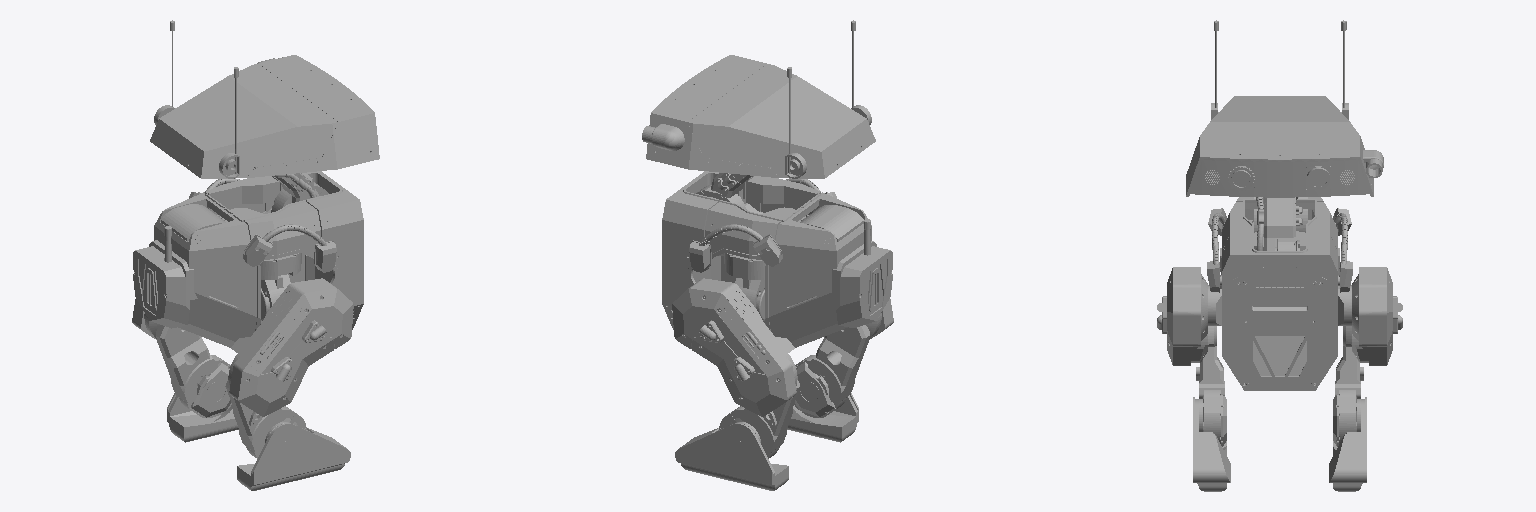
The robot description file, URDF, robot "bdx":
<?xml version="1.0" ?>
<robot name="bdx">
  <material name="silver">
    <color rgba="0.700 0.700 0.700 1.000"/>
  </material>
  <link name="trunk">
    <inertial>
      <origin xyz="0 0 0" rpy="0 0 0" />
      <mass value="1e-9" />
      <inertia ixx="0" ixy="0" ixz="0" iyy="0" iyz="0" izz="0" />
    </inertial>
  </link>
  <joint name="trunk_frame" type="fixed">
    <origin xyz="-0.035 0 0.26943" rpy="0 0 0" />
    <parent link="pelvis" />
    <child link="trunk" />
    <axis xyz="0 0 0"/>
  </joint>
  <joint name="left_hip_yaw" type="revolute">
    <origin rpy="0 0 0" xyz="-0.033111 0.046658 0.363959"/>
    <parent link="pelvis"/>
    <child link="left_hip_rotation"/>
    <axis xyz="-0.0 0.0 -1.0"/>
    <limit lower="-0.7853982" upper="0.7853982" effort="23.7" velocity="30"/>
  </joint>
  <joint name="left_hip_roll" type="revolute">
    <origin rpy="0 0 0" xyz="-0.0073 0.00275 -0.076"/>
    <parent link="left_hip_rotation"/>
    <child link="left_hip"/>
    <axis xyz="1.0 -0.0 -0.0"/>
    <limit lower="-0.7853982" upper="0.7853982" effort="23.7" velocity="30"/>
  </joint>
  <joint name="left_hip_pitch" type="revolute">
    <origin rpy="0 0 0" xyz="0.017466 0.069601 0.000785"/>
    <parent link="left_hip"/>
    <child link="left_thigh"/>
    <axis xyz="0.0 1.0 0.0"/>
    <limit lower="-0.7853982" upper="0.7853982" effort="23.7" velocity="30"/>
  </joint>
  <joint name="left_knee" type="revolute">
    <origin rpy="0 0 0" xyz="-0.079306 0.0 -0.077708"/>
    <parent link="left_thigh"/>
    <child link="left_shin"/>
    <axis xyz="-0.0 -1.0 0.0"/>
    <limit lower="-0.7853982" upper="0.7853982" effort="23.7" velocity="30"/>
  </joint>
  <joint name="left_ankle" type="revolute">
    <origin rpy="0 0 0" xyz="0.045 -0.0152 -0.13"/>
    <parent link="left_shin"/>
    <child link="left_foot_link"/>
    <axis xyz="0.0 1.0 -0.0"/>
    <limit lower="-0.7853982" upper="0.7853982" effort="23.7" velocity="30"/>
  </joint>
  <joint name="right_hip_yaw" type="revolute">
    <origin rpy="0 0 0" xyz="-0.033111 -0.046658 0.363959"/>
    <parent link="pelvis"/>
    <child link="right_hip_rotation"/>
    <axis xyz="-0.0 -0.0 -1.0"/>
    <limit lower="-0.7853982" upper="0.7853982" effort="23.7" velocity="30"/>
  </joint>
  <joint name="right_hip_roll" type="revolute">
    <origin rpy="0 0 0" xyz="-0.0073 -0.00275 -0.076"/>
    <parent link="right_hip_rotation"/>
    <child link="right_hip"/>
    <axis xyz="1.0 -0.0 -0.0"/>
    <limit lower="-0.7853982" upper="0.7853982" effort="23.7" velocity="30"/>
  </joint>
  <joint name="right_hip_pitch" type="revolute">
    <origin rpy="0 0 0" xyz="0.017466 -0.069601 0.000785"/>
    <parent link="right_hip"/>
    <child link="right_thigh"/>
    <axis xyz="-0.0 -1.0 0.0"/>
    <limit lower="-0.7853982" upper="0.7853982" effort="23.7" velocity="30"/>
  </joint>
  <joint name="right_knee" type="revolute">
    <origin rpy="0 0 0" xyz="-0.079306 0.0 -0.077708"/>
    <parent link="right_thigh"/>
    <child link="right_shin"/>
    <axis xyz="0.0 1.0 -0.0"/>
    <limit lower="-0.7853982" upper="0.7853982" effort="23.7" velocity="30"/>
  </joint>
  <joint name="right_ankle" type="revolute">
    <origin rpy="0 0 0" xyz="0.045 0.0152 -0.13"/>
    <parent link="right_shin"/>
    <child link="right_foot_link"/>
    <axis xyz="-0.0 -1.0 0.0"/>
    <limit lower="-0.7853982" upper="0.7853982" effort="23.7" velocity="30"/>
  </joint>
  <joint name="neck_pitch" type="revolute">
    <origin rpy="0 0 0" xyz="0.056339 0.0119 0.395171"/>
    <parent link="pelvis"/>
    <child link="neck"/>
    <axis xyz="-0.0 -1.0 0.0"/>
    <limit lower="-0.7853982" upper="0.7853982" effort="23.7" velocity="30"/>
  </joint>
  <joint name="head_pitch" type="revolute">
    <origin rpy="0 0 0" xyz="-0.065022 -0.01175 0.11088"/>
    <parent link="neck"/>
    <child link="head_body_pitch"/>
    <axis xyz="-0.0 -1.0 0.0"/>
    <limit lower="-0.7853982" upper="0.7853982" effort="7.3" velocity="5.55"/>
  </joint>
  <joint name="head_yaw" type="revolute">
    <origin rpy="0 0 0" xyz="0.000299 0.0007 0.02897"/>
    <parent link="head_body_pitch"/>
    <child link="head_body_yaw"/>
    <axis xyz="-0.0 -0.0 1.0"/>
    <limit lower="-0.7853982" upper="0.7853982" effort="7.3" velocity="5.55"/>
  </joint>
  <joint name="head_roll" type="revolute">
    <origin rpy="0 0 0" xyz="0.039892 0.0 0.02715"/>
    <parent link="head_body_yaw"/>
    <child link="head_body_roll"/>
    <axis xyz="1.0 -0.0 0.0"/>
    <limit lower="-0.7853982" upper="0.7853982" effort="7.3" velocity="5.55"/>
  </joint>
  <joint name="left_antenna" type="revolute">
    <origin rpy="0 0 0" xyz="-0.16665 0.0683 0.001231"/>
    <parent link="head_body_roll"/>
    <child link="ear_left"/>
    <axis xyz="-0.0 -1.0 -0.0"/>
    <limit lower="-0.7853982" upper="0.7853982" effort="0.2943" velocity="13.62"/>
  </joint>
  <joint name="right_antenna" type="revolute">
    <origin rpy="0 0 0" xyz="-0.16665 -0.0697 0.001231"/>
    <parent link="head_body_roll"/>
    <child link="ear_right"/>
    <axis xyz="-0.0 -1.0 -0.0"/>
    <limit lower="-0.7853982" upper="0.7853982" effort="0.2943" velocity="13.62"/>
  </joint>
  <link name="pelvis">
    <inertial>
      <origin rpy="0 0 0" xyz="-0.053755951684186565 0.0011833805784402802 0.3419474505132109"/>
      <mass value="5.713"/>
      <inertia ixx="0.201691" ixy="-0.002118" ixz="0.016433" iyy="0.431684" iyz="-0.001502" izz="0.371809"/>
    </inertial>
    <visual>
      <origin rpy="0 0 0" xyz="0 0 0"/>
      <geometry>
        <mesh filename="meshes/pelvis.stl" scale="0.001 0.001 0.001"/>
      </geometry>
      <material name="silver"/>
    </visual>
    <collision>
      <origin rpy="0 0 0" xyz="0 0 0"/>
      <geometry>
        <mesh filename="meshes/pelvis.stl" scale="0.001 0.001 0.001"/>
      </geometry>
    </collision>
  </link>
  <link name="left_foot">
    <inertial>
      <origin xyz="0 0 0" rpy="0 0 0" />
      <mass value="1e-9" />
      <inertia ixx="0" ixy="0" ixz="0" iyy="0" iyz="0" izz="0" />
    </inertial>
  </link>
  <joint name="left_foot_frame" type="fixed">
      <origin xyz="0.025 0.0 -0.0785" rpy="0 0 0" />
      <parent link="left_foot_link" />
      <child link="left_foot" />
      <axis xyz="0 0 0"/>
  </joint>
  <link name="left_foot_link">
    <inertial>
      <origin rpy="0 0 0" xyz="0.03176454302608206 0.007933373772940469 -0.042151517495486915"/>
      <mass value="0.678"/>
      <inertia ixx="0.003343" ixy="0.000338" ixz="0.000572" iyy="0.010216" iyz="-0.000559" izz="0.008414"/>
    </inertial>
    <visual>
      <origin rpy="0 0 0" xyz="0.057251 -0.103809 -0.081036"/>
      <geometry>
        <mesh filename="meshes/left_foot.stl" scale="0.001 0.001 0.001"/>
      </geometry>
      <material name="silver"/>
    </visual>
    <collision>
      <origin rpy="0 0 0" xyz="0.057251 -0.103809 -0.081036"/>
      <geometry>
        <mesh filename="meshes/left_foot.stl" scale="0.001 0.001 0.001"/>
      </geometry>
    </collision>
  </link>
  <link name="left_shin">
    <inertial>
      <origin rpy="0 0 0" xyz="0.022294583259108075 -0.014936697575107835 -0.09005879619606566"/>
      <mass value="0.633"/>
      <inertia ixx="0.008877" ixy="0.000288" ixz="0.002995" iyy="0.011732" iyz="-0.000503" izz="0.003534"/>
    </inertial>
    <visual>
      <origin rpy="0 0 0" xyz="0.102251 -0.119009 -0.211036"/>
      <geometry>
        <mesh filename="meshes/left_shin.stl" scale="0.001 0.001 0.001"/>
      </geometry>
      <material name="silver"/>
    </visual>
    <collision>
      <origin rpy="0 0 0" xyz="0.102251 -0.119009 -0.211036"/>
      <geometry>
        <mesh filename="meshes/left_shin.stl" scale="0.001 0.001 0.001"/>
      </geometry>
    </collision>
  </link>
  <link name="left_thigh">
    <inertial>
      <origin rpy="0 0 0" xyz="-0.03410869713640875 0.02677272953598611 -0.034446694656980914"/>
      <mass value="0.633"/>
      <inertia ixx="0.024423" ixy="-0.000254" ixz="-0.014456" iyy="0.047342" iyz="-2.5e-05" izz="0.029001"/>
    </inertial>
    <visual>
      <origin rpy="0 0 0" xyz="0.022945 -0.119009 -0.288744"/>
      <geometry>
        <mesh filename="meshes/left_thigh.stl" scale="0.001 0.001 0.001"/>
      </geometry>
      <material name="silver"/>
    </visual>
    <collision>
      <origin rpy="0 0 0" xyz="0.022945 -0.119009 -0.288744"/>
      <geometry>
        <mesh filename="meshes/left_thigh.stl" scale="0.001 0.001 0.001"/>
      </geometry>
    </collision>
  </link>
  <link name="left_hip">
    <inertial>
      <origin rpy="0 0 0" xyz="0.01891117648514914 0.023471260644046747 0.00036212347671088496"/>
      <mass value="0.633"/>
      <inertia ixx="0.001496" ixy="-4.5e-05" ixz="-4e-06" iyy="0.000508" iyz="-4e-06" izz="0.001368"/>
    </inertial>
    <visual>
      <origin rpy="0 0 0" xyz="0.040411 -0.049408 -0.287959"/>
      <geometry>
        <mesh filename="meshes/left_hip.stl" scale="0.001 0.001 0.001"/>
      </geometry>
      <material name="silver"/>
    </visual>
    <collision>
      <origin rpy="0 0 0" xyz="0.040411 -0.049408 -0.287959"/>
      <geometry>
        <mesh filename="meshes/left_hip.stl" scale="0.001 0.001 0.001"/>
      </geometry>
    </collision>
  </link>
  <link name="left_hip_rotation">
    <inertial>
      <origin rpy="0 0 0" xyz="-0.0050839710984315195 0.0030924159298773846 -0.0631042772217113"/>
      <mass value="0.633"/>
      <inertia ixx="0.005331" ixy="8e-06" ixz="-0.000134" iyy="0.004179" iyz="9.4e-05" izz="0.001979"/>
    </inertial>
    <visual>
      <origin rpy="0 0 0" xyz="0.033111 -0.046658 -0.363959"/>
      <geometry>
        <mesh filename="meshes/left_hip_rotation.stl" scale="0.001 0.001 0.001"/>
      </geometry>
      <material name="silver"/>
    </visual>
    <collision>
      <origin rpy="0 0 0" xyz="0.033111 -0.046658 -0.363959"/>
      <geometry>
        <mesh filename="meshes/left_hip_rotation.stl" scale="0.001 0.001 0.001"/>
      </geometry>
    </collision>
  </link>
  <link name="right_foot">
    <inertial>
      <origin xyz="0 0 0" rpy="0 0 0" />
      <mass value="1e-9" />
      <inertia ixx="0" ixy="0" ixz="0" iyy="0" iyz="0" izz="0" />
    </inertial>
  </link>
  <joint name="right_foot_frame" type="fixed">
      <origin xyz="0.025 0.0 -0.0785" rpy="0 0 0" />
      <parent link="right_foot_link" />
      <child link="right_foot" />
      <axis xyz="0 0 0"/>
  </joint>
  <link name="right_foot_link">
    <inertial>
      <origin rpy="0 0 0" xyz="0.03176454302608035 -0.00793337377294008 -0.042151517495486845"/>
      <mass value="0.678"/>
      <inertia ixx="0.003343" ixy="-0.000338" ixz="0.000572" iyy="0.010216" iyz="0.000559" izz="0.008414"/>
    </inertial>
    <visual>
      <origin rpy="0 0 0" xyz="0.057251 0.103809 -0.081036"/>
      <geometry>
        <mesh filename="meshes/right_foot.stl" scale="0.001 0.001 0.001"/>
      </geometry>
      <material name="silver"/>
    </visual>
    <collision>
      <origin rpy="0 0 0" xyz="0.057251 0.103809 -0.081036"/>
      <geometry>
        <mesh filename="meshes/right_foot.stl" scale="0.001 0.001 0.001"/>
      </geometry>
    </collision>
  </link>
  <link name="right_shin">
    <inertial>
      <origin rpy="0 0 0" xyz="0.022294581455755427 0.014936696596238155 -0.09005879470076929"/>
      <mass value="0.633"/>
      <inertia ixx="0.008877" ixy="-0.000288" ixz="0.002995" iyy="0.011732" iyz="0.000503" izz="0.003534"/>
    </inertial>
    <visual>
      <origin rpy="0 0 0" xyz="0.102251 0.119009 -0.211036"/>
      <geometry>
        <mesh filename="meshes/right_shin.stl" scale="0.001 0.001 0.001"/>
      </geometry>
      <material name="silver"/>
    </visual>
    <collision>
      <origin rpy="0 0 0" xyz="0.102251 0.119009 -0.211036"/>
      <geometry>
        <mesh filename="meshes/right_shin.stl" scale="0.001 0.001 0.001"/>
      </geometry>
    </collision>
  </link>
  <link name="right_thigh">
    <inertial>
      <origin rpy="0 0 0" xyz="-0.03410869899821546 -0.026772733326120124 -0.03444669565952929"/>
      <mass value="0.633"/>
      <inertia ixx="0.024423" ixy="0.000254" ixz="-0.014456" iyy="0.047342" iyz="2.5e-05" izz="0.029001"/>
    </inertial>
    <visual>
      <origin rpy="0 0 0" xyz="0.022945 0.119009 -0.288744"/>
      <geometry>
        <mesh filename="meshes/right_thigh.stl" scale="0.001 0.001 0.001"/>
      </geometry>
      <material name="silver"/>
    </visual>
    <collision>
      <origin rpy="0 0 0" xyz="0.022945 0.119009 -0.288744"/>
      <geometry>
        <mesh filename="meshes/right_thigh.stl" scale="0.001 0.001 0.001"/>
      </geometry>
    </collision>
  </link>
  <link name="right_hip">
    <inertial>
      <origin rpy="0 0 0" xyz="0.01891117648514806 -0.023471260644046442 0.00036212347671088496"/>
      <mass value="0.633"/>
      <inertia ixx="0.001496" ixy="4.5e-05" ixz="-4e-06" iyy="0.000508" iyz="4e-06" izz="0.001368"/>
    </inertial>
    <visual>
      <origin rpy="0 0 0" xyz="0.040411 0.049408 -0.287959"/>
      <geometry>
        <mesh filename="meshes/right_hip.stl" scale="0.001 0.001 0.001"/>
      </geometry>
      <material name="silver"/>
    </visual>
    <collision>
      <origin rpy="0 0 0" xyz="0.040411 0.049408 -0.287959"/>
      <geometry>
        <mesh filename="meshes/right_hip.stl" scale="0.001 0.001 0.001"/>
      </geometry>
    </collision>
  </link>
  <link name="right_hip_rotation">
    <inertial>
      <origin rpy="0 0 0" xyz="-0.005083970545589955 -0.0030924159660494083 -0.0631042786786194"/>
      <mass value="0.633"/>
      <inertia ixx="0.005331" ixy="-8e-06" ixz="-0.000134" iyy="0.004179" iyz="-9.4e-05" izz="0.001979"/>
    </inertial>
    <visual>
      <origin rpy="0 0 0" xyz="0.033111 0.046658 -0.363959"/>
      <geometry>
        <mesh filename="meshes/right_hip_rotation.stl" scale="0.001 0.001 0.001"/>
      </geometry>
      <material name="silver"/>
    </visual>
    <collision>
      <origin rpy="0 0 0" xyz="0.033111 0.046658 -0.363959"/>
      <geometry>
        <mesh filename="meshes/right_hip_rotation.stl" scale="0.001 0.001 0.001"/>
      </geometry>
    </collision>
  </link>
  <link name="ear_right">
    <inertial>
      <origin rpy="0 0 0" xyz="0.0001615646627644296 -0.024729110791009132 0.016144998004147593"/>
      <mass value="0.09640158820730861"/>
      <inertia ixx="0.000207" ixy="0.0" ixz="-1.4e-05" iyy="0.0002" iyz="9e-06" izz="2.1e-05"/>
    </inertial>
    <visual>
      <origin rpy="0 0 0" xyz="0.135142 0.06885 -0.563402"/>
      <geometry>
        <mesh filename="meshes/ear_right.stl" scale="0.001 0.001 0.001"/>
      </geometry>
      <material name="silver"/>
    </visual>
    <collision>
      <origin rpy="0 0 0" xyz="0.135142 0.06885 -0.563402"/>
      <geometry>
        <mesh filename="meshes/ear_right.stl" scale="0.001 0.001 0.001"/>
      </geometry>
    </collision>
  </link>
  <link name="ear_left">
    <inertial>
      <origin rpy="0 0 0" xyz="0.00016156466276556758 0.02472912163478709 0.016144998004147926"/>
      <mass value="0.09640158820730847"/>
      <inertia ixx="0.000207" ixy="-0.0" ixz="-1.4e-05" iyy="0.0002" iyz="-9e-06" izz="2.1e-05"/>
    </inertial>
    <visual>
      <origin rpy="0 0 0" xyz="0.135142 -0.06915 -0.563402"/>
      <geometry>
        <mesh filename="meshes/ear_left.stl" scale="0.001 0.001 0.001"/>
      </geometry>
      <material name="silver"/>
    </visual>
    <collision>
      <origin rpy="0 0 0" xyz="0.135142 -0.06915 -0.563402"/>
      <geometry>
        <mesh filename="meshes/ear_left.stl" scale="0.001 0.001 0.001"/>
      </geometry>
    </collision>
  </link>
  <link name="head">
      <inertial>
          <origin xyz="0 0 0" rpy="0 0 0" />
          <mass value="1e-9" />
          <inertia ixx="0" ixy="0" ixz="0" iyy="0" iyz="0" izz="0" />
      </inertial>
  </link>
  <joint name="head_frame" type="fixed">
      <origin xyz="-0.03 0 0.05" rpy="0 0 0"/>
      <parent link="head_body_roll" />
      <child link="head" />
      <axis xyz="0 0 0"/>
  </joint>
  <link name="head_body_roll">
    <inertial>
      <origin rpy="0 0 0" xyz="-0.033968727756986235 0.0014876580341947271 0.002427645109891574"/>
      <mass value="0.4"/>
      <inertia ixx="0.041565" ixy="-0.001049" ixz="-0.001655" iyy="0.047007" iyz="-0.000217" izz="0.080654"/>
    </inertial>
    <visual>
      <origin rpy="0 0 0" xyz="-0.031508 -0.00085 -0.562171"/>
      <geometry>
        <mesh filename="meshes/head_body_roll.stl" scale="0.001 0.001 0.001"/>
      </geometry>
      <material name="silver"/>
    </visual>
    <collision>
      <origin rpy="0 0 0" xyz="-0.031508 -0.00085 -0.562171"/>
      <geometry>
        <mesh filename="meshes/head_body_roll.stl" scale="0.001 0.001 0.001"/>
      </geometry>
    </collision>
  </link>
  <link name="head_body_yaw">
    <inertial>
      <origin rpy="0 0 0" xyz="0.007854612556277348 -1.4610759692288647e-06 0.022545092583183712"/>
      <mass value="0.200"/>
      <inertia ixx="0.000226" ixy="-0.0" ixz="-5.7e-05" iyy="0.000559" iyz="-0.0" izz="0.00054"/>
    </inertial>
    <visual>
      <origin rpy="0 0 0" xyz="0.008384 -0.00085 -0.535021"/>
      <geometry>
        <mesh filename="meshes/head_body_yaw.stl" scale="0.001 0.001 0.001"/>
      </geometry>
      <material name="silver"/>
    </visual>
    <collision>
      <origin rpy="0 0 0" xyz="0.008384 -0.00085 -0.535021"/>
      <geometry>
        <mesh filename="meshes/head_body_yaw.stl" scale="0.001 0.001 0.001"/>
      </geometry>
    </collision>
  </link>
  <link name="head_body_pitch">
    <inertial>
      <origin rpy="0 0 0" xyz="-0.012968234611992 -0.0017146542693841447 0.02775588249672334"/>
      <mass value="0.200"/>
      <inertia ixx="0.000368" ixy="1.6e-05" ixz="8.6e-05" iyy="0.000336" iyz="-2.7e-05" izz="0.000202"/>
    </inertial>
    <visual>
      <origin rpy="0 0 0" xyz="0.008683 -0.00015 -0.506051"/>
      <geometry>
        <mesh filename="meshes/head_body_pitch.stl" scale="0.001 0.001 0.001"/>
      </geometry>
      <material name="silver"/>
    </visual>
    <collision>
      <origin rpy="0 0 0" xyz="0.008683 -0.00015 -0.506051"/>
      <geometry>
        <mesh filename="meshes/head_body_pitch.stl" scale="0.001 0.001 0.001"/>
      </geometry>
    </collision>
  </link>
  <link name="neck">
    <inertial>
      <origin rpy="0 0 0" xyz="-0.024004254429775385 -0.016411240253498143 0.050435044753794234"/>
      <mass value="0.633"/>
      <inertia ixx="0.005277" ixy="0.000151" ixz="0.00222" iyy="0.006434" iyz="-0.00041" izz="0.00225"/>
    </inertial>
    <visual>
      <origin rpy="0 0 0" xyz="-0.056339 -0.0119 -0.395171"/>
      <geometry>
        <mesh filename="meshes/neck.stl" scale="0.001 0.001 0.001"/>
      </geometry>
      <material name="silver"/>
    </visual>
    <collision>
      <origin rpy="0 0 0" xyz="-0.056339 -0.0119 -0.395171"/>
      <geometry>
        <mesh filename="meshes/neck.stl" scale="0.001 0.001 0.001"/>
      </geometry>
    </collision>
  </link>
</robot>

--- Facts derived from the render (not from the file) ---
The picture shows the robot from 3 angles, left to right: view 1: azimuth 30°, elevation 25°; view 2: azimuth 150°, elevation 25°; view 3: azimuth 270°, elevation 25°; orthographic projection.
Model bdx with 21 links and 20 joints (16 revolute, 4 fixed), rooted at pelvis, posed all joints at 0.
Visible links, largest first — view 1: pelvis, head_body_roll, right_thigh, right_foot_link, left_shin, right_shin, left_foot_link, neck, right_hip_rotation, ear_right; view 2: pelvis, head_body_roll, left_thigh, left_foot_link, right_shin, left_shin, right_foot_link, neck, ear_left, left_hip_rotation; view 3: pelvis, head_body_roll, left_thigh, right_thigh, left_foot_link, right_foot_link, left_shin, right_shin, neck.
Link boxes in pixels (x1,y1,x2,y2): pelvis: [133, 171, 363, 347]; head_body_roll: [150, 55, 379, 178]; right_thigh: [228, 278, 353, 416]; right_foot_link: [237, 422, 350, 490]; left_shin: [156, 325, 231, 417]; right_shin: [225, 380, 306, 458]; left_foot_link: [167, 393, 238, 442]; neck: [273, 173, 318, 202]; right_hip_rotation: [260, 273, 290, 324]; ear_right: [219, 67, 239, 178]; pelvis: [662, 171, 892, 347]; head_body_roll: [642, 55, 875, 178]; left_thigh: [672, 278, 797, 416]; left_foot_link: [675, 422, 788, 490]; right_shin: [794, 325, 869, 417]; left_shin: [719, 380, 800, 458]; right_foot_link: [787, 393, 858, 442]; neck: [711, 173, 752, 200]; ear_left: [785, 67, 806, 178]; left_hip_rotation: [735, 278, 765, 324]; pelvis: [1207, 197, 1352, 390]; head_body_roll: [1186, 96, 1383, 197]; left_thigh: [1346, 267, 1402, 365]; right_thigh: [1157, 267, 1213, 365]; left_foot_link: [1329, 397, 1366, 491]; right_foot_link: [1193, 397, 1230, 491]; left_shin: [1333, 326, 1363, 446]; right_shin: [1196, 326, 1226, 446]; neck: [1256, 197, 1302, 250].
Bounding box of the posed robot: 0.3453 × 0.3835 × 0.7289 m (x, y, z).
Meshes: 17 distinct files referenced, 17 mesh visuals loaded (17 binary STL).